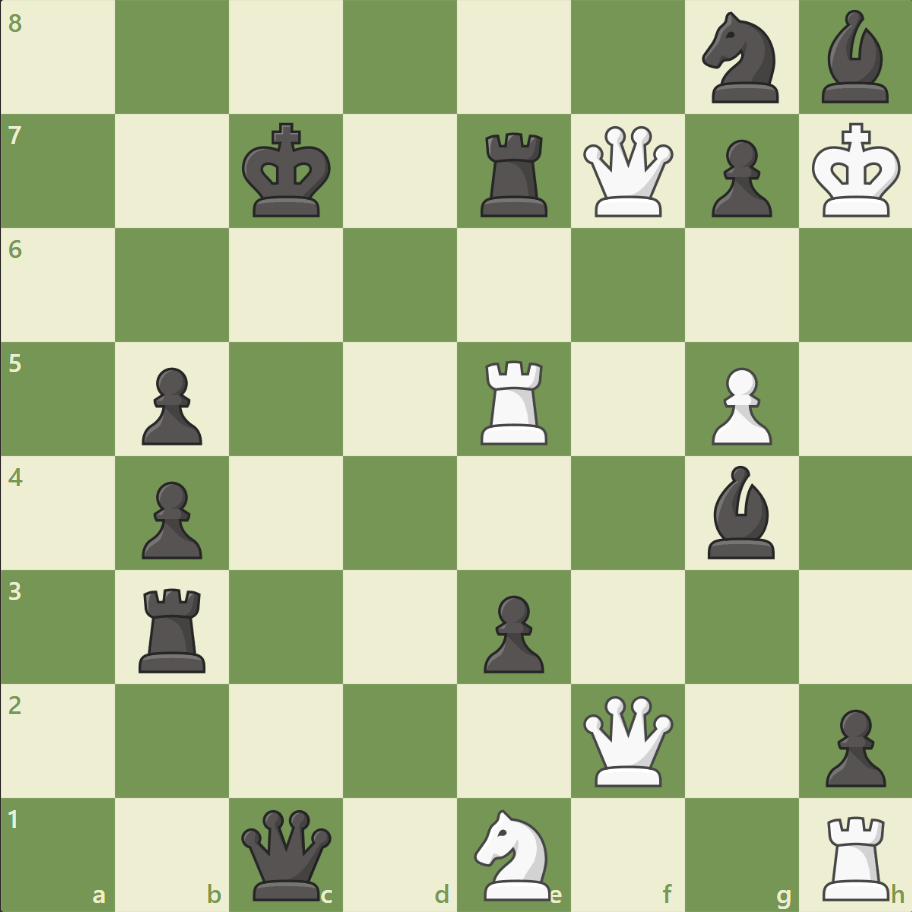K: (806, 117, 906, 225)
N: (465, 802, 562, 904)
P: (701, 359, 776, 450)
Q: (578, 122, 677, 222), (578, 690, 677, 789)
R: (814, 806, 897, 904), (473, 352, 556, 449)
b: (812, 6, 896, 109), (698, 460, 782, 563)
k: (238, 117, 338, 225)
n: (692, 7, 789, 110)
p: (701, 132, 776, 223), (133, 359, 208, 450), (133, 473, 208, 564), (474, 586, 549, 677), (815, 700, 889, 791)
q: (237, 804, 336, 903)
r: (473, 125, 556, 222), (133, 579, 215, 676)
